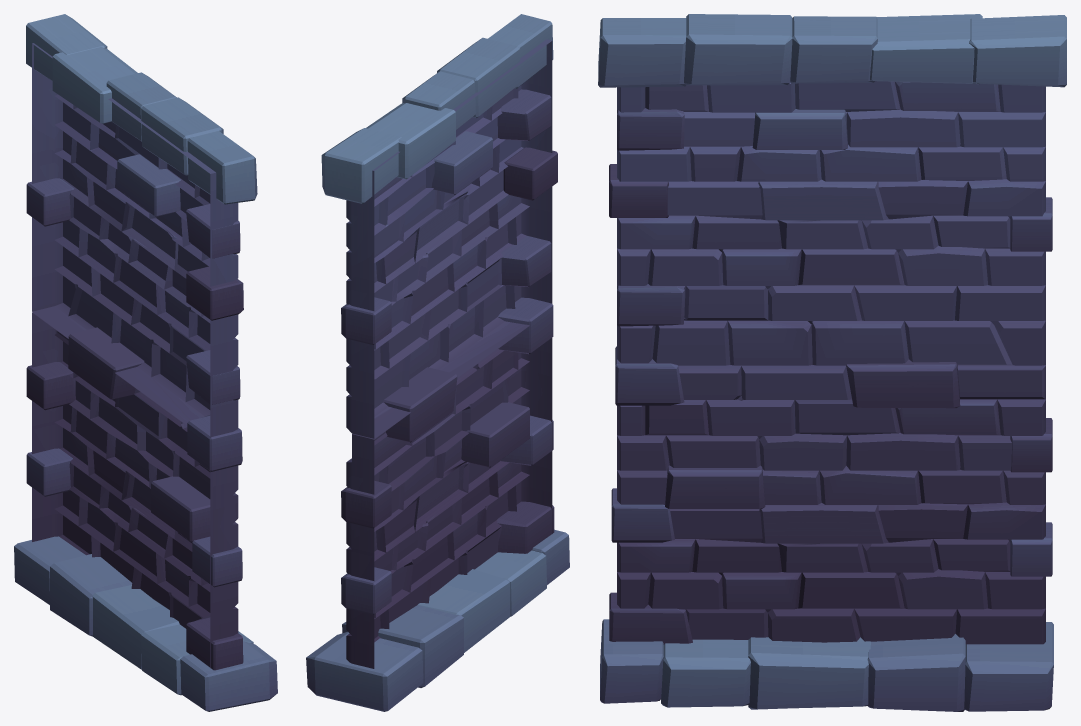
Rendered from wall2h.fbx.
3 views of the same model, side by side, from view 1: azimuth 30°, elevation 25°; view 2: azimuth 150°, elevation 25°; view 3: azimuth 270°, elevation 25° (orthographic). The views are drawn at different scales.
Visible parts, largest first — view 1: pCube337; view 2: pCube337; view 3: pCube337.
Boxes of the visible parts, x1,y1,x2,y2 form: pCube337: (14, 14, 277, 711); pCube337: (306, 14, 569, 711); pCube337: (598, 14, 1066, 711).
Bounding box in the file's own units: 1.51 × 9.44 × 6.01.
